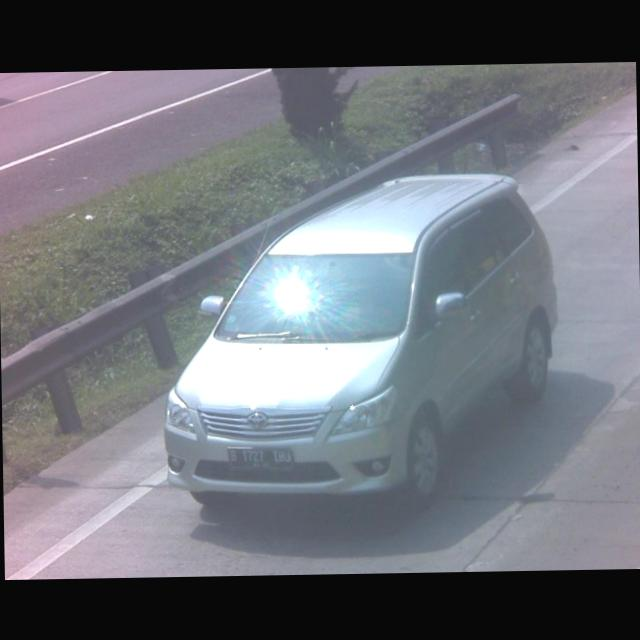plate: (226, 443, 293, 471)
